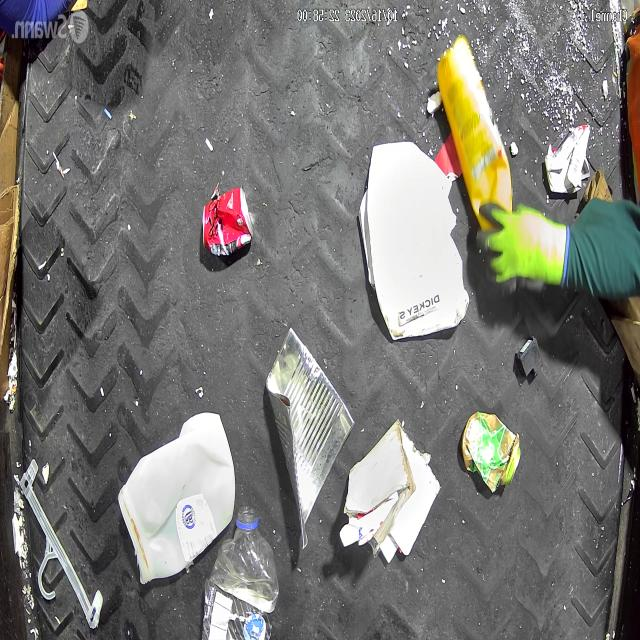can: (265, 329, 353, 547), (461, 411, 521, 488), (202, 187, 254, 257)
milk_jug: (117, 412, 236, 586)
non_white_jug: (438, 36, 514, 228)
plastic_bottle: (201, 505, 279, 640)
